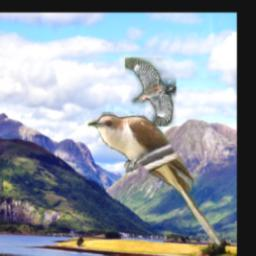Cuckoo: (87, 113, 223, 248)
Woodpecker: (124, 57, 175, 126)
